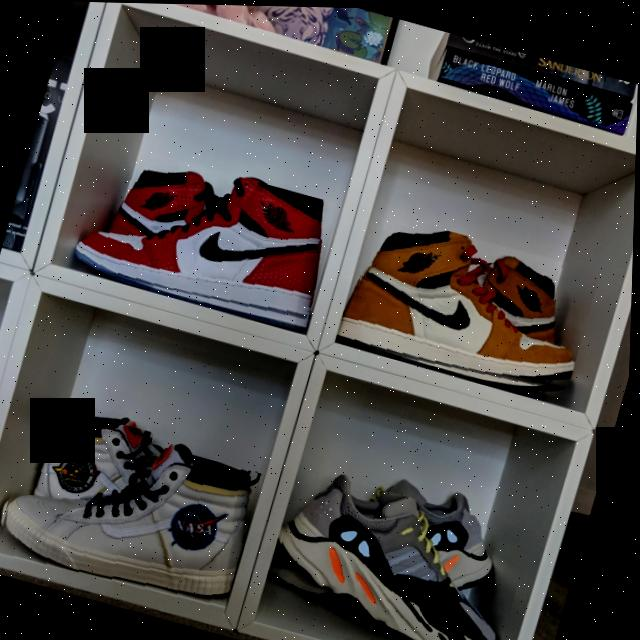shoe: (0, 409, 266, 626), (70, 139, 343, 331), (340, 209, 602, 402), (260, 465, 536, 640), (33, 404, 157, 513), (413, 492, 514, 592)
